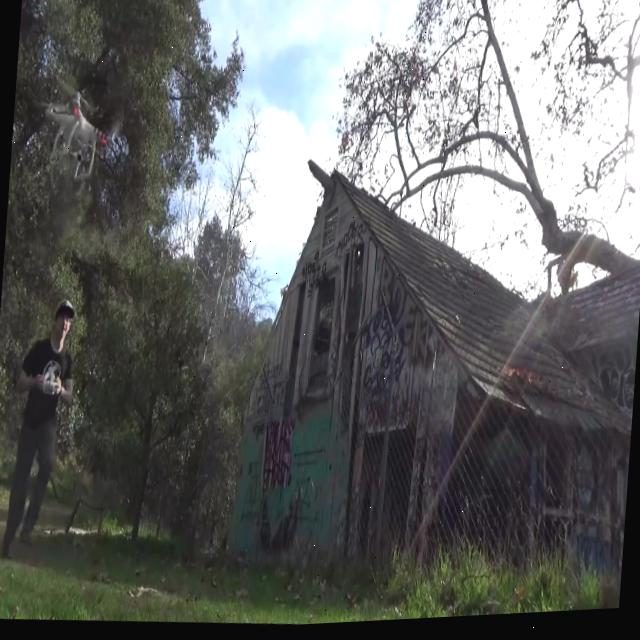drone: (40, 77, 124, 183)
